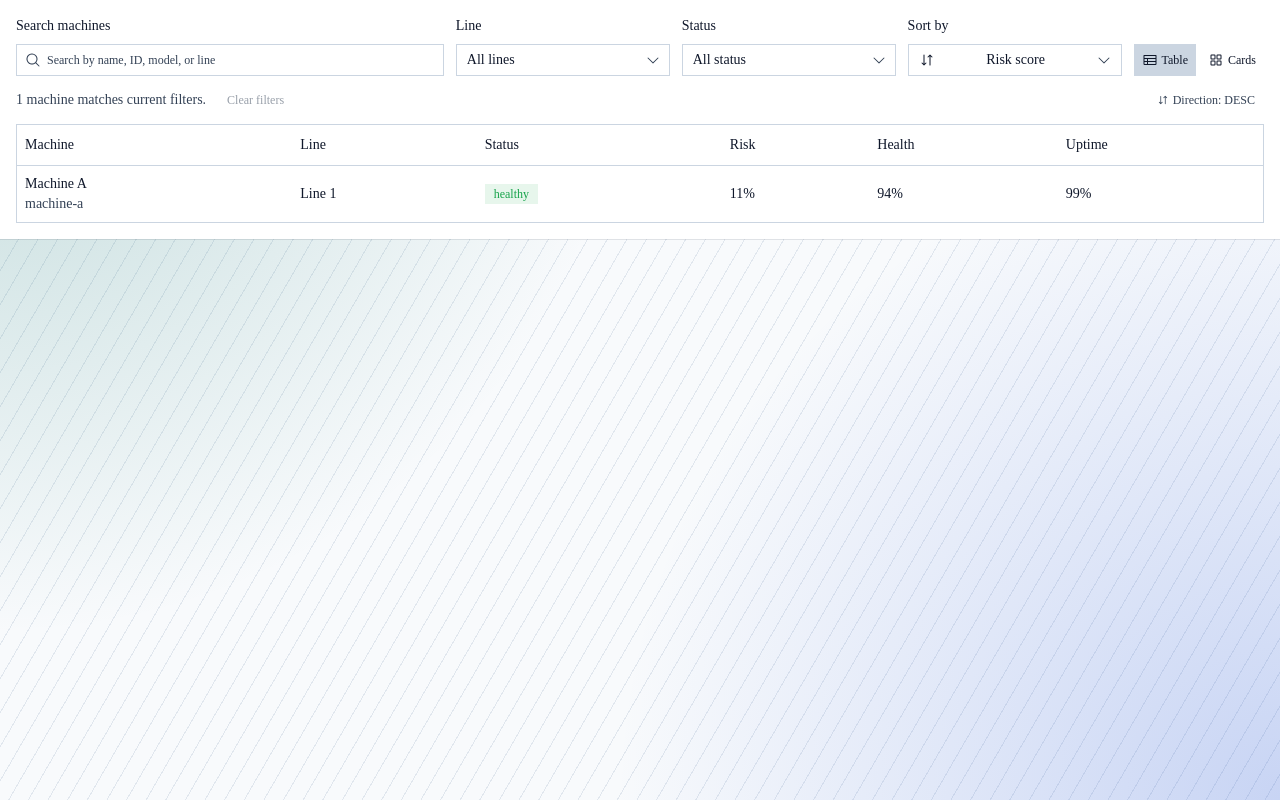
Test: machine refresh failures identify retained rows as previous results and retry the current search
Check: the link "Machine A" is shown, box [25, 174, 87, 194]
Type "Machine A" into the field labelled "Search machines" at x=242, y=60, box [41, 44, 443, 76]
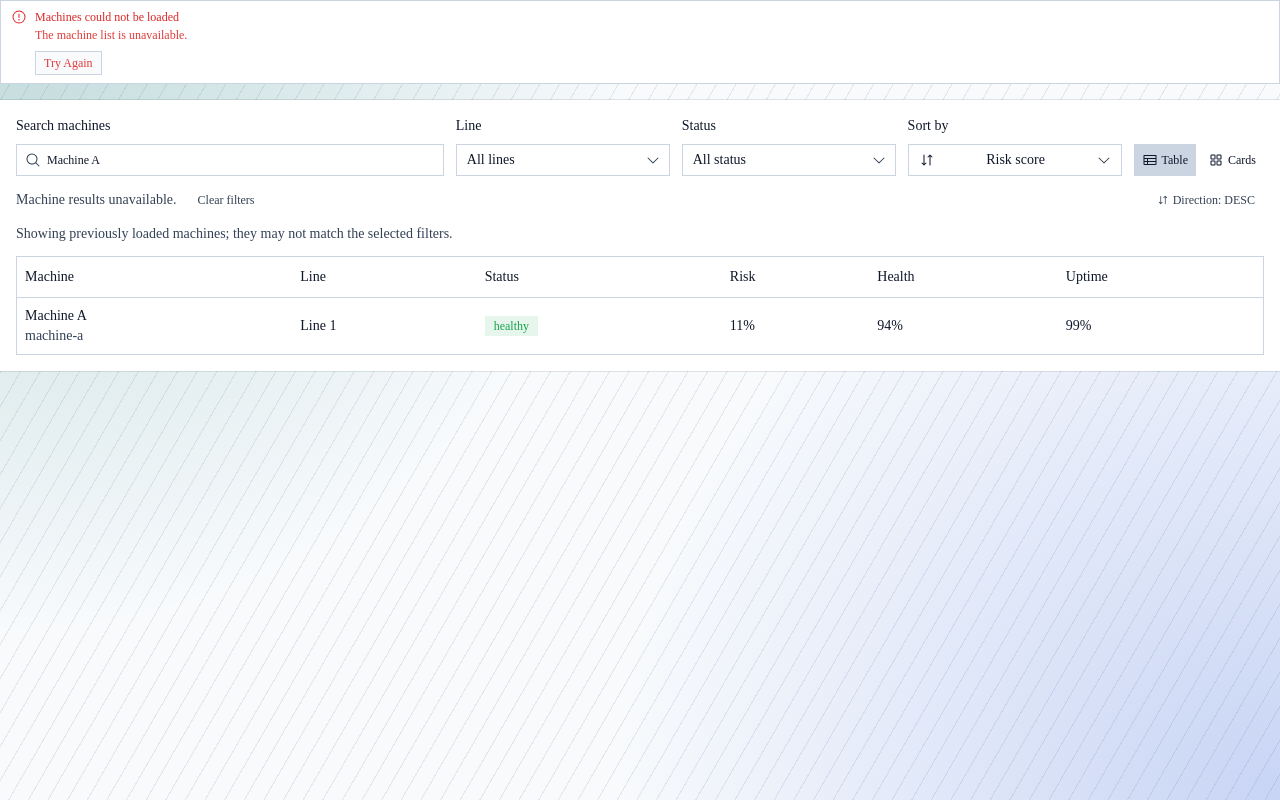
Check: the link "Machine A" is shown, box [25, 306, 87, 326]
Check: the text "Machines could not be loaded" is shown, box [35, 10, 179, 24]
Check: the text "Showing previously loaded machines" is shown, box [16, 226, 453, 241]
Click the button "Try Again" at x=68, y=63, box [35, 51, 102, 75]
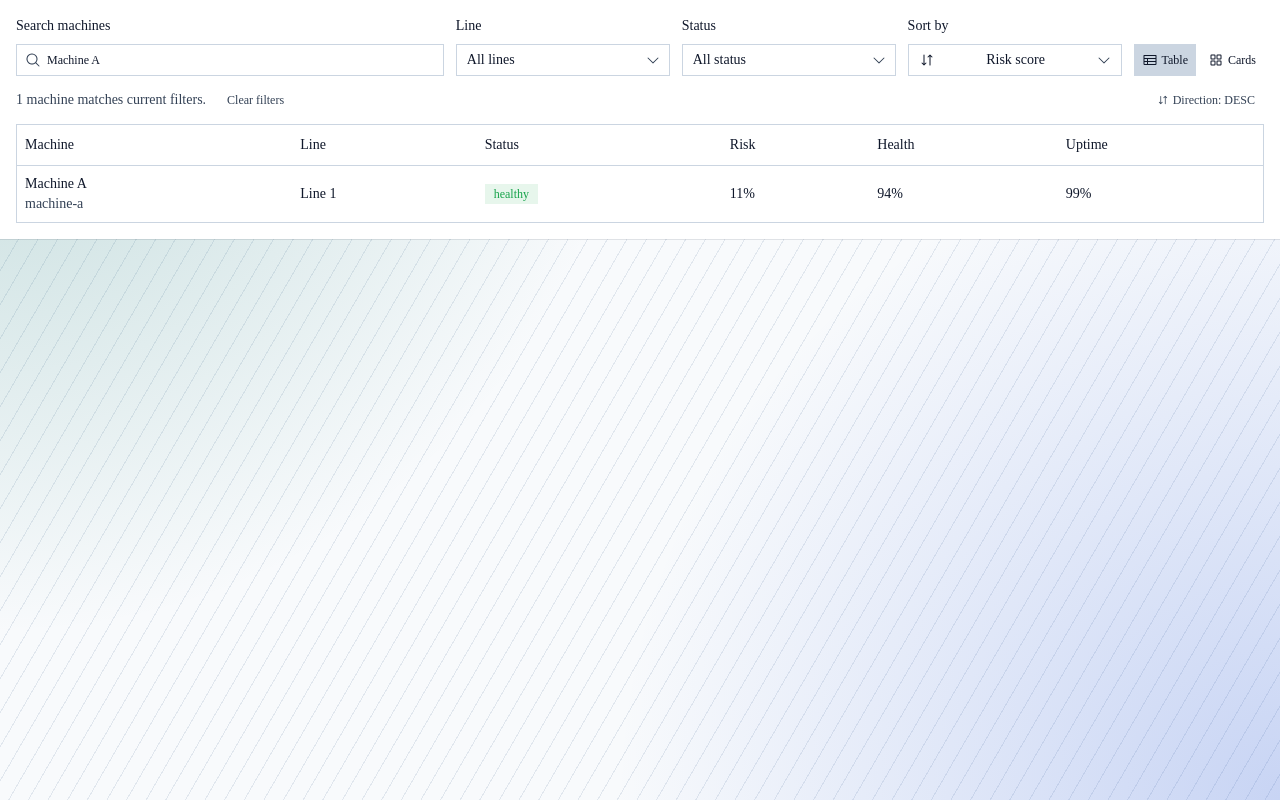
Check: the text "Machines could not be loaded" is gone
